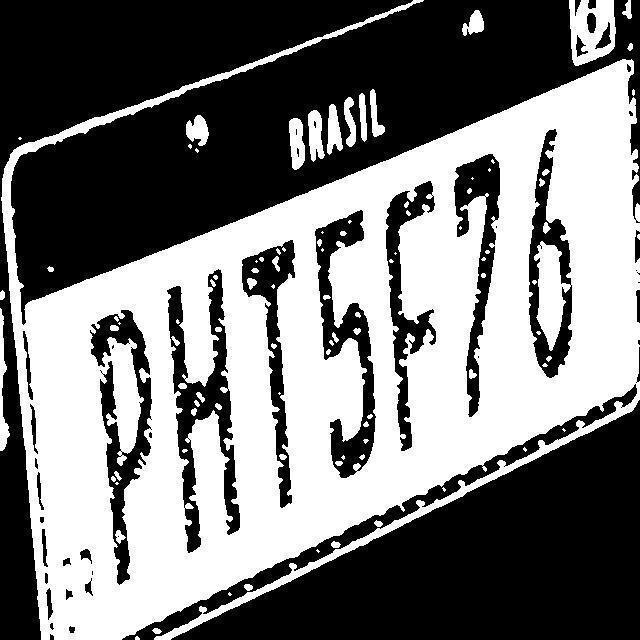5: (308, 203, 374, 494)
6: (506, 119, 580, 408)
7: (443, 144, 505, 442)
f: (386, 176, 440, 479)
h: (164, 252, 243, 556)
p: (80, 287, 159, 590)
t: (238, 230, 306, 516)
